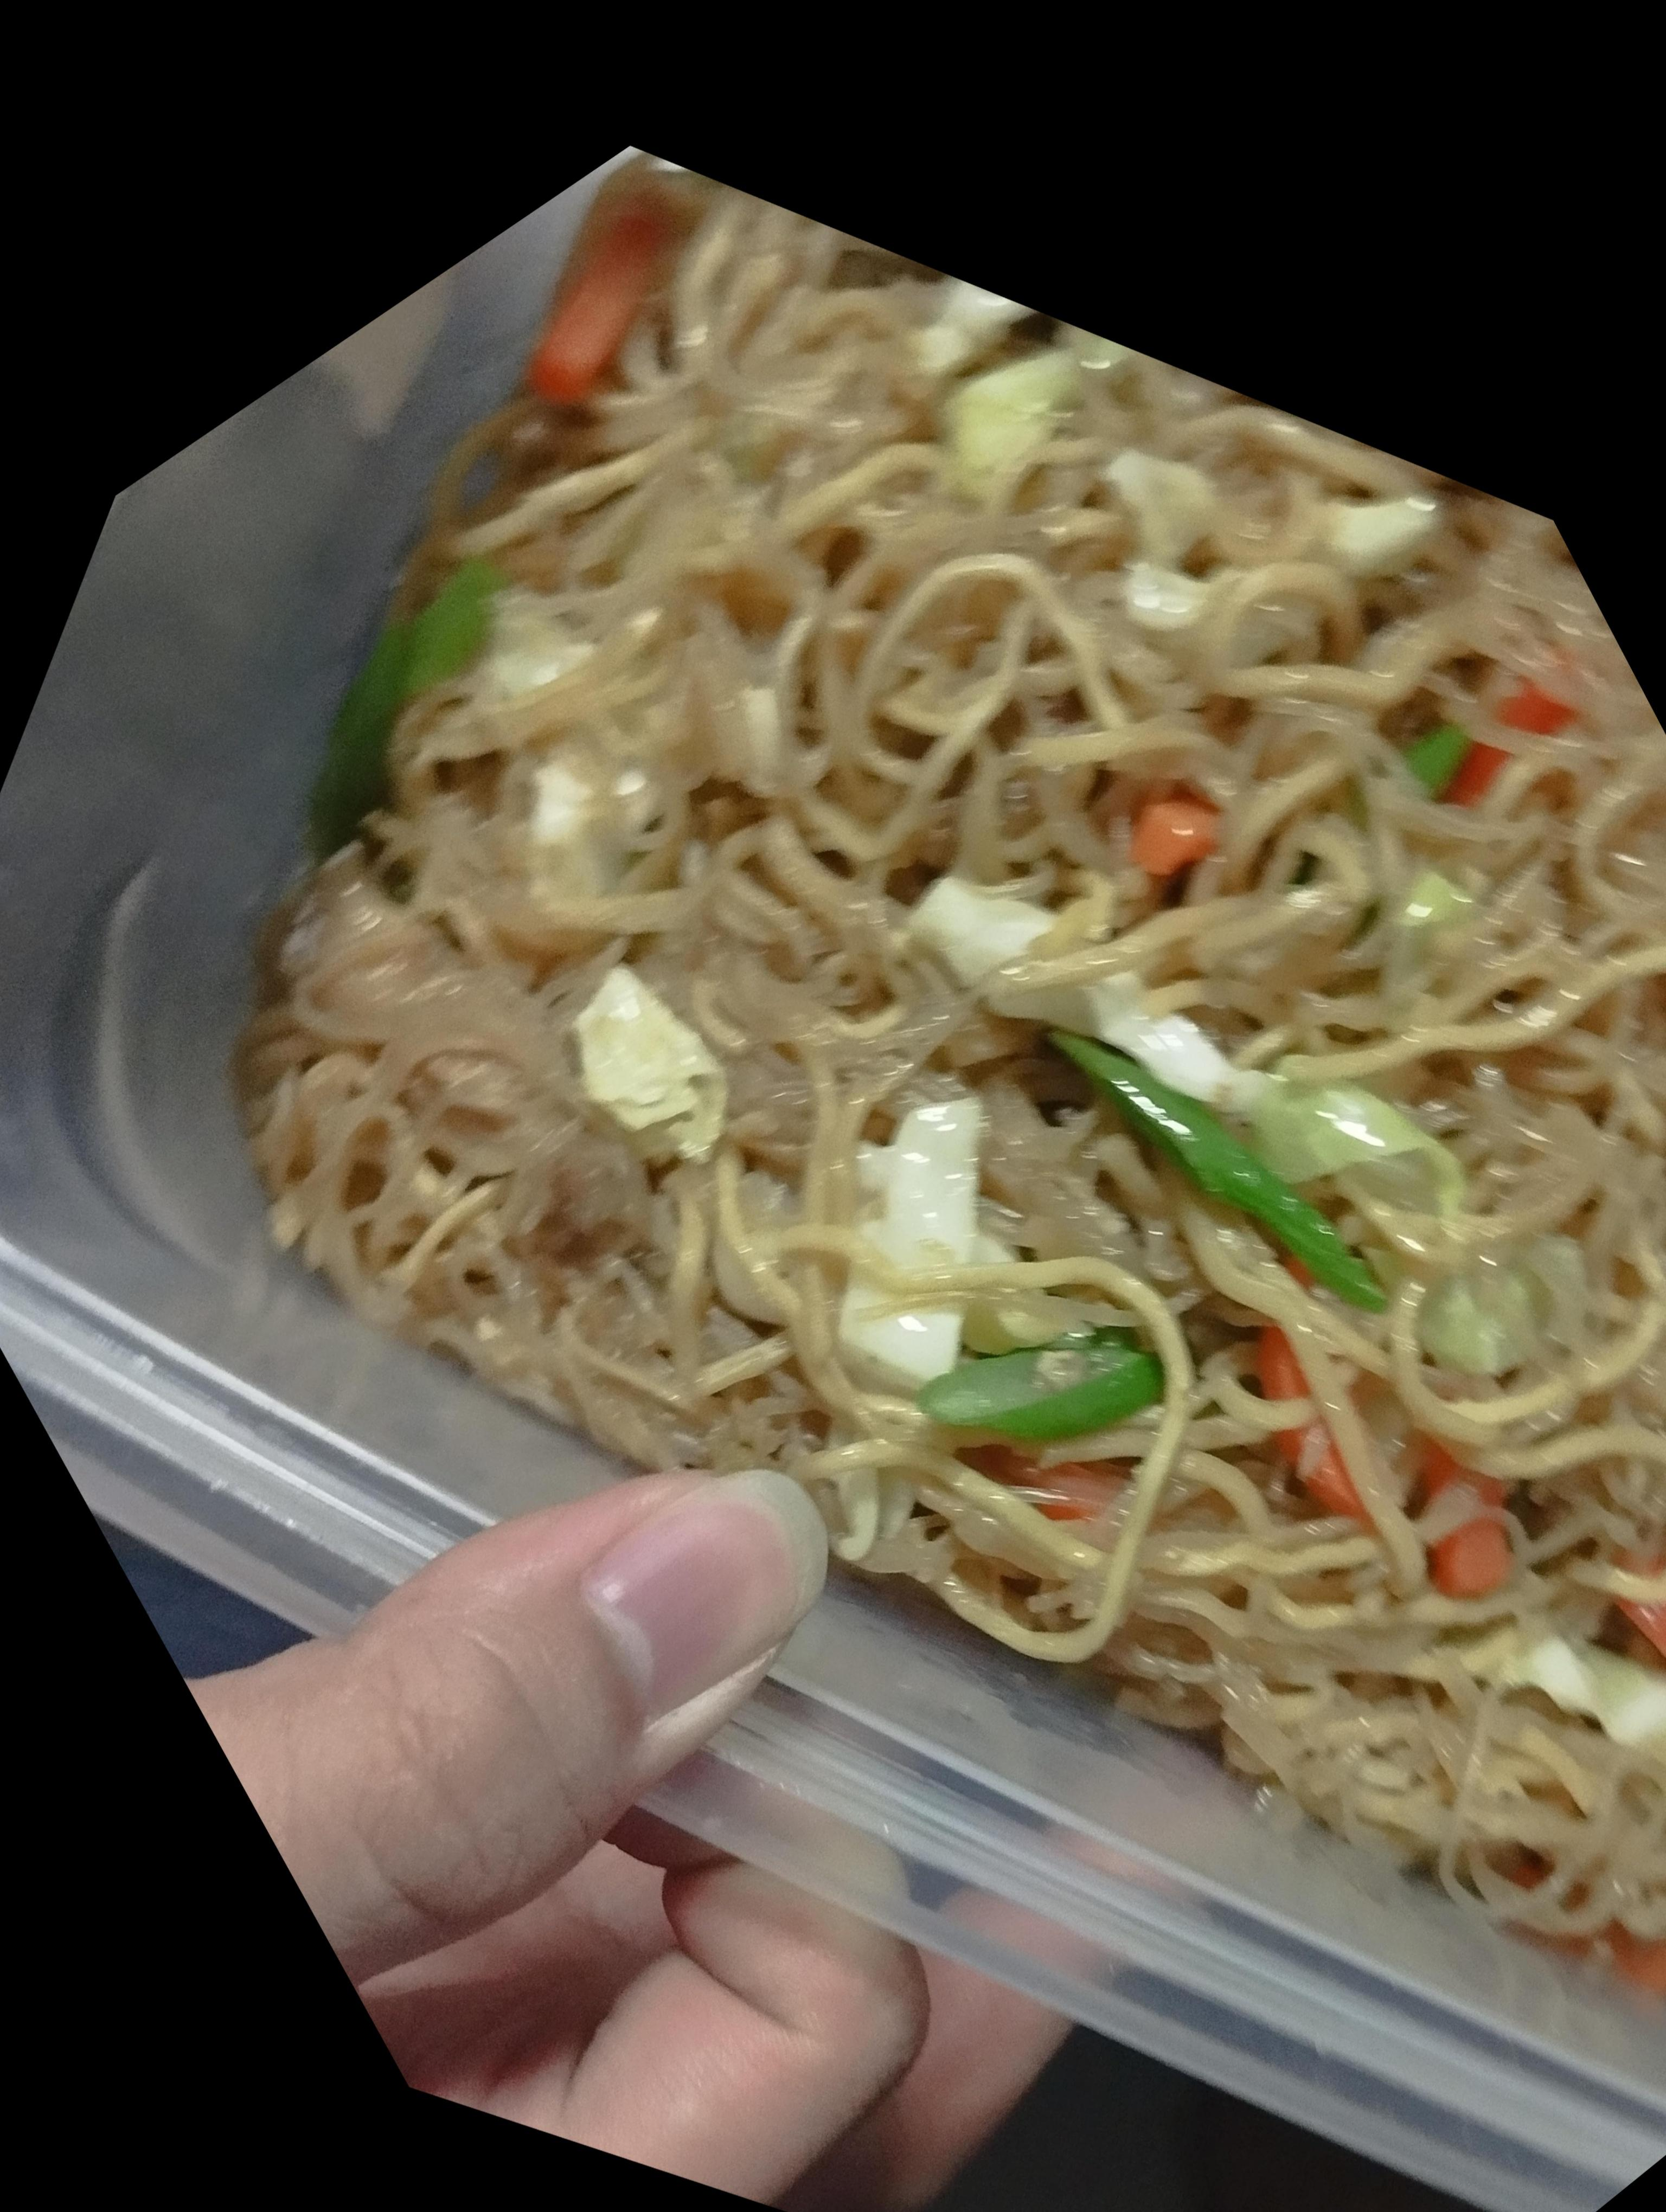pancit bihon: (221, 222, 1665, 1918)
